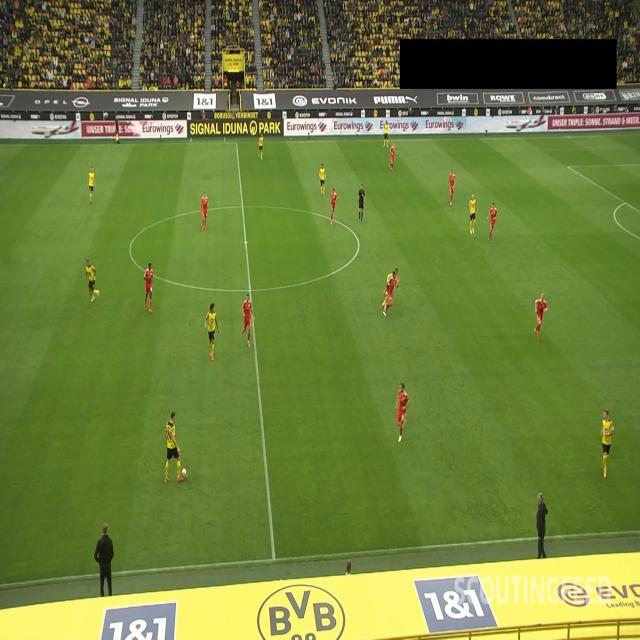ball: (181, 467, 187, 481)
